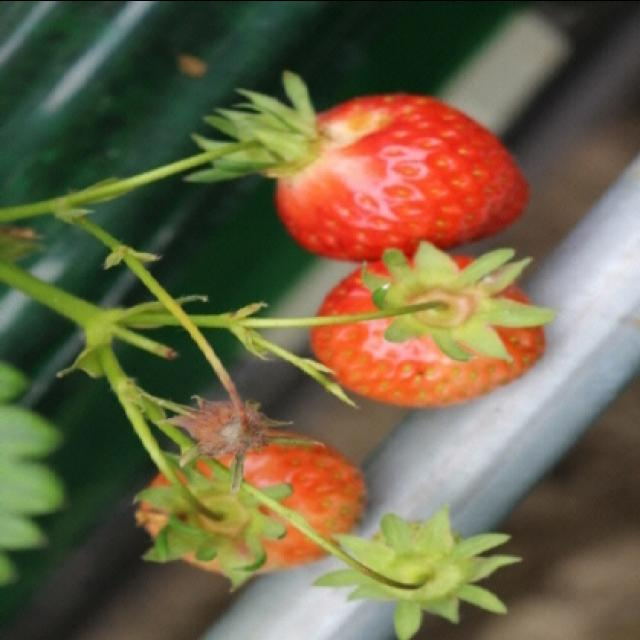Gray Mold: (160, 386, 306, 487)
